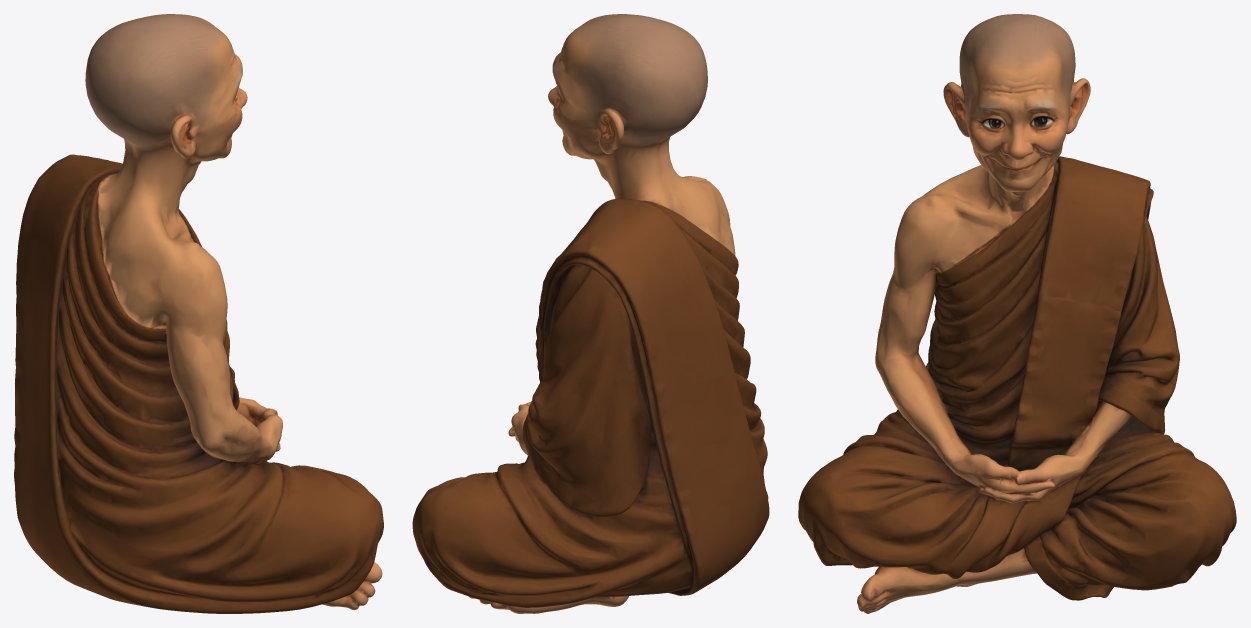
The model's file is monk-elder.glb.
The picture shows the model from 3 angles, left to right: view 1: azimuth 30°, elevation 25°; view 2: azimuth 150°, elevation 25°; view 3: azimuth 270°, elevation 25°; orthographic projection. The views are drawn at different scales.
Visible parts, largest first — view 1: tripo_node_d54a8ed9-080e-4d65-9e4b-c688701273af; view 2: tripo_node_d54a8ed9-080e-4d65-9e4b-c688701273af; view 3: tripo_node_d54a8ed9-080e-4d65-9e4b-c688701273af.
Boxes of the visible parts, bbox=[...] form: tripo_node_d54a8ed9-080e-4d65-9e4b-c688701273af: bbox=[14, 14, 383, 613]; tripo_node_d54a8ed9-080e-4d65-9e4b-c688701273af: bbox=[412, 14, 769, 613]; tripo_node_d54a8ed9-080e-4d65-9e4b-c688701273af: bbox=[798, 14, 1236, 613].
Bounding box in the file's own units: 0.4889 × 0.9999 × 0.7393.
1 material, 1 textured.
